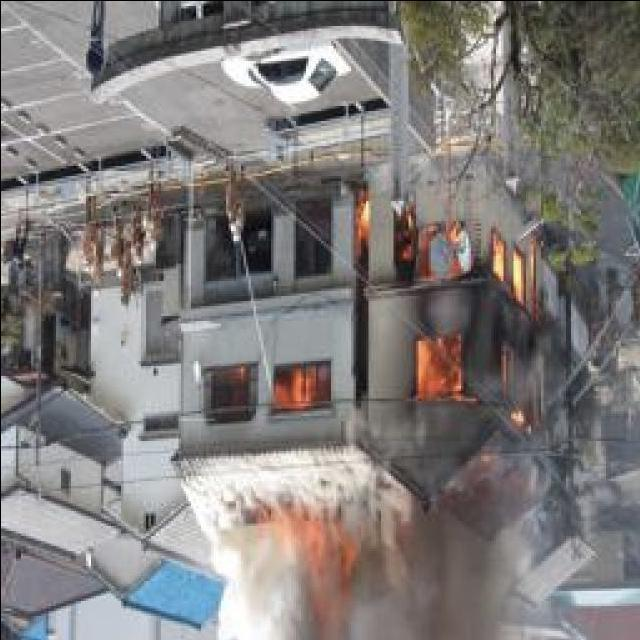Fire: (349, 196, 555, 432), (244, 507, 356, 607), (222, 364, 332, 411)
